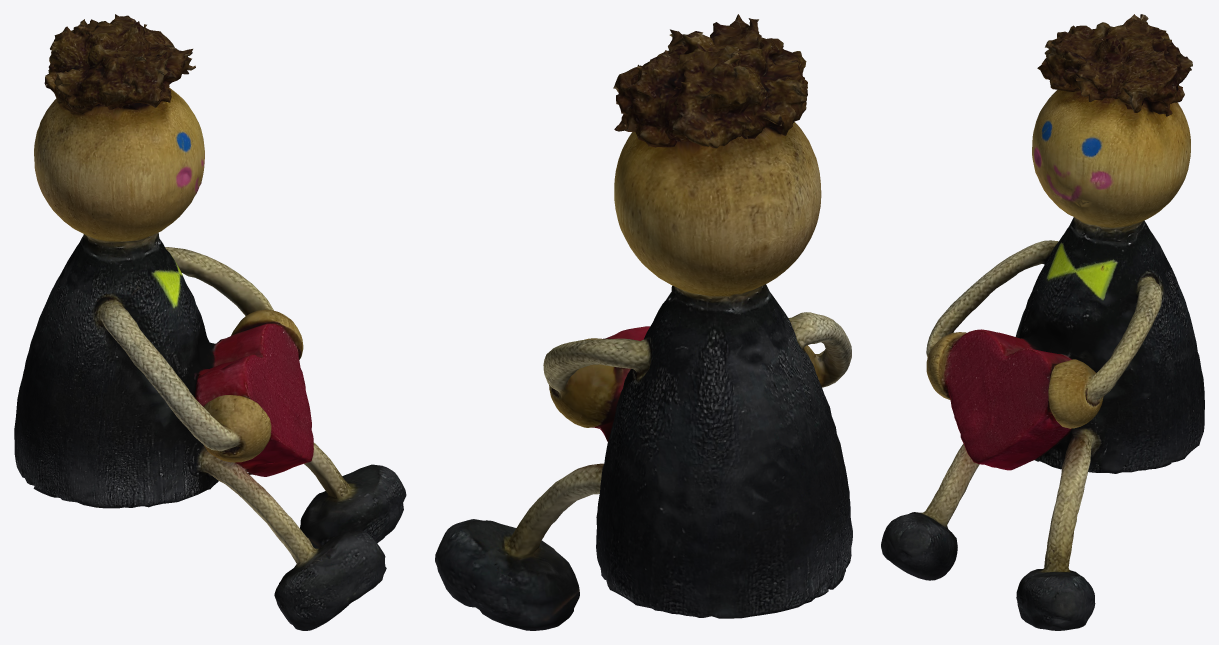
The model's file is child.glb.
3 renders of one model, left to right at view 1: azimuth 30°, elevation 25°; view 2: azimuth 150°, elevation 25°; view 3: azimuth 270°, elevation 25°, orthographic. The views are drawn at different scales.
Parts seen in each view (by area): view 1: 小人_219_完成_1_10000; view 2: 小人_219_完成_1_10000; view 3: 小人_219_完成_1_10000.
Part boxes in pixels (x1,y1,x2,y2): 小人_219_完成_1_10000: (14, 14, 406, 630); 小人_219_完成_1_10000: (435, 14, 852, 630); 小人_219_完成_1_10000: (881, 14, 1204, 630).
Bounding box in the file's own units: 0.4274 × 0.6493 × 0.3691.
Materials: 1 (1 with a texture image).
